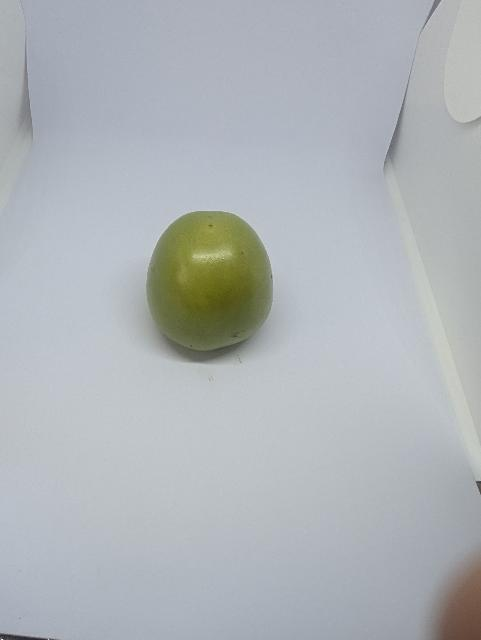green: (143, 210, 276, 354)
